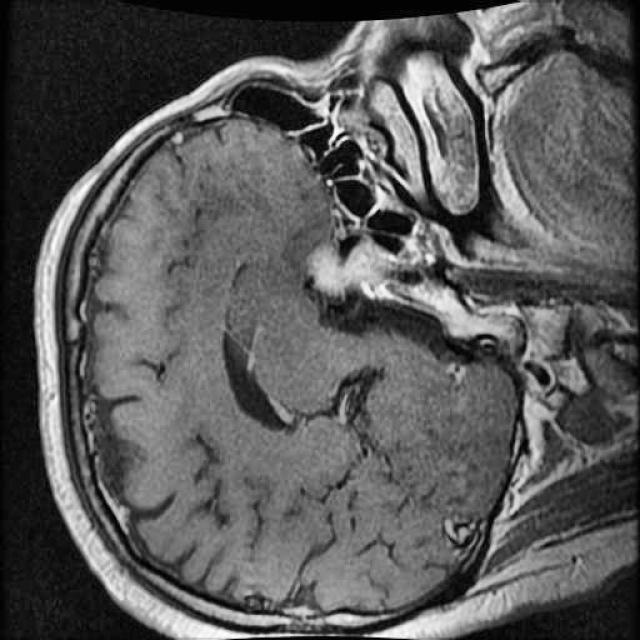Tumor: (289, 229, 416, 304)
